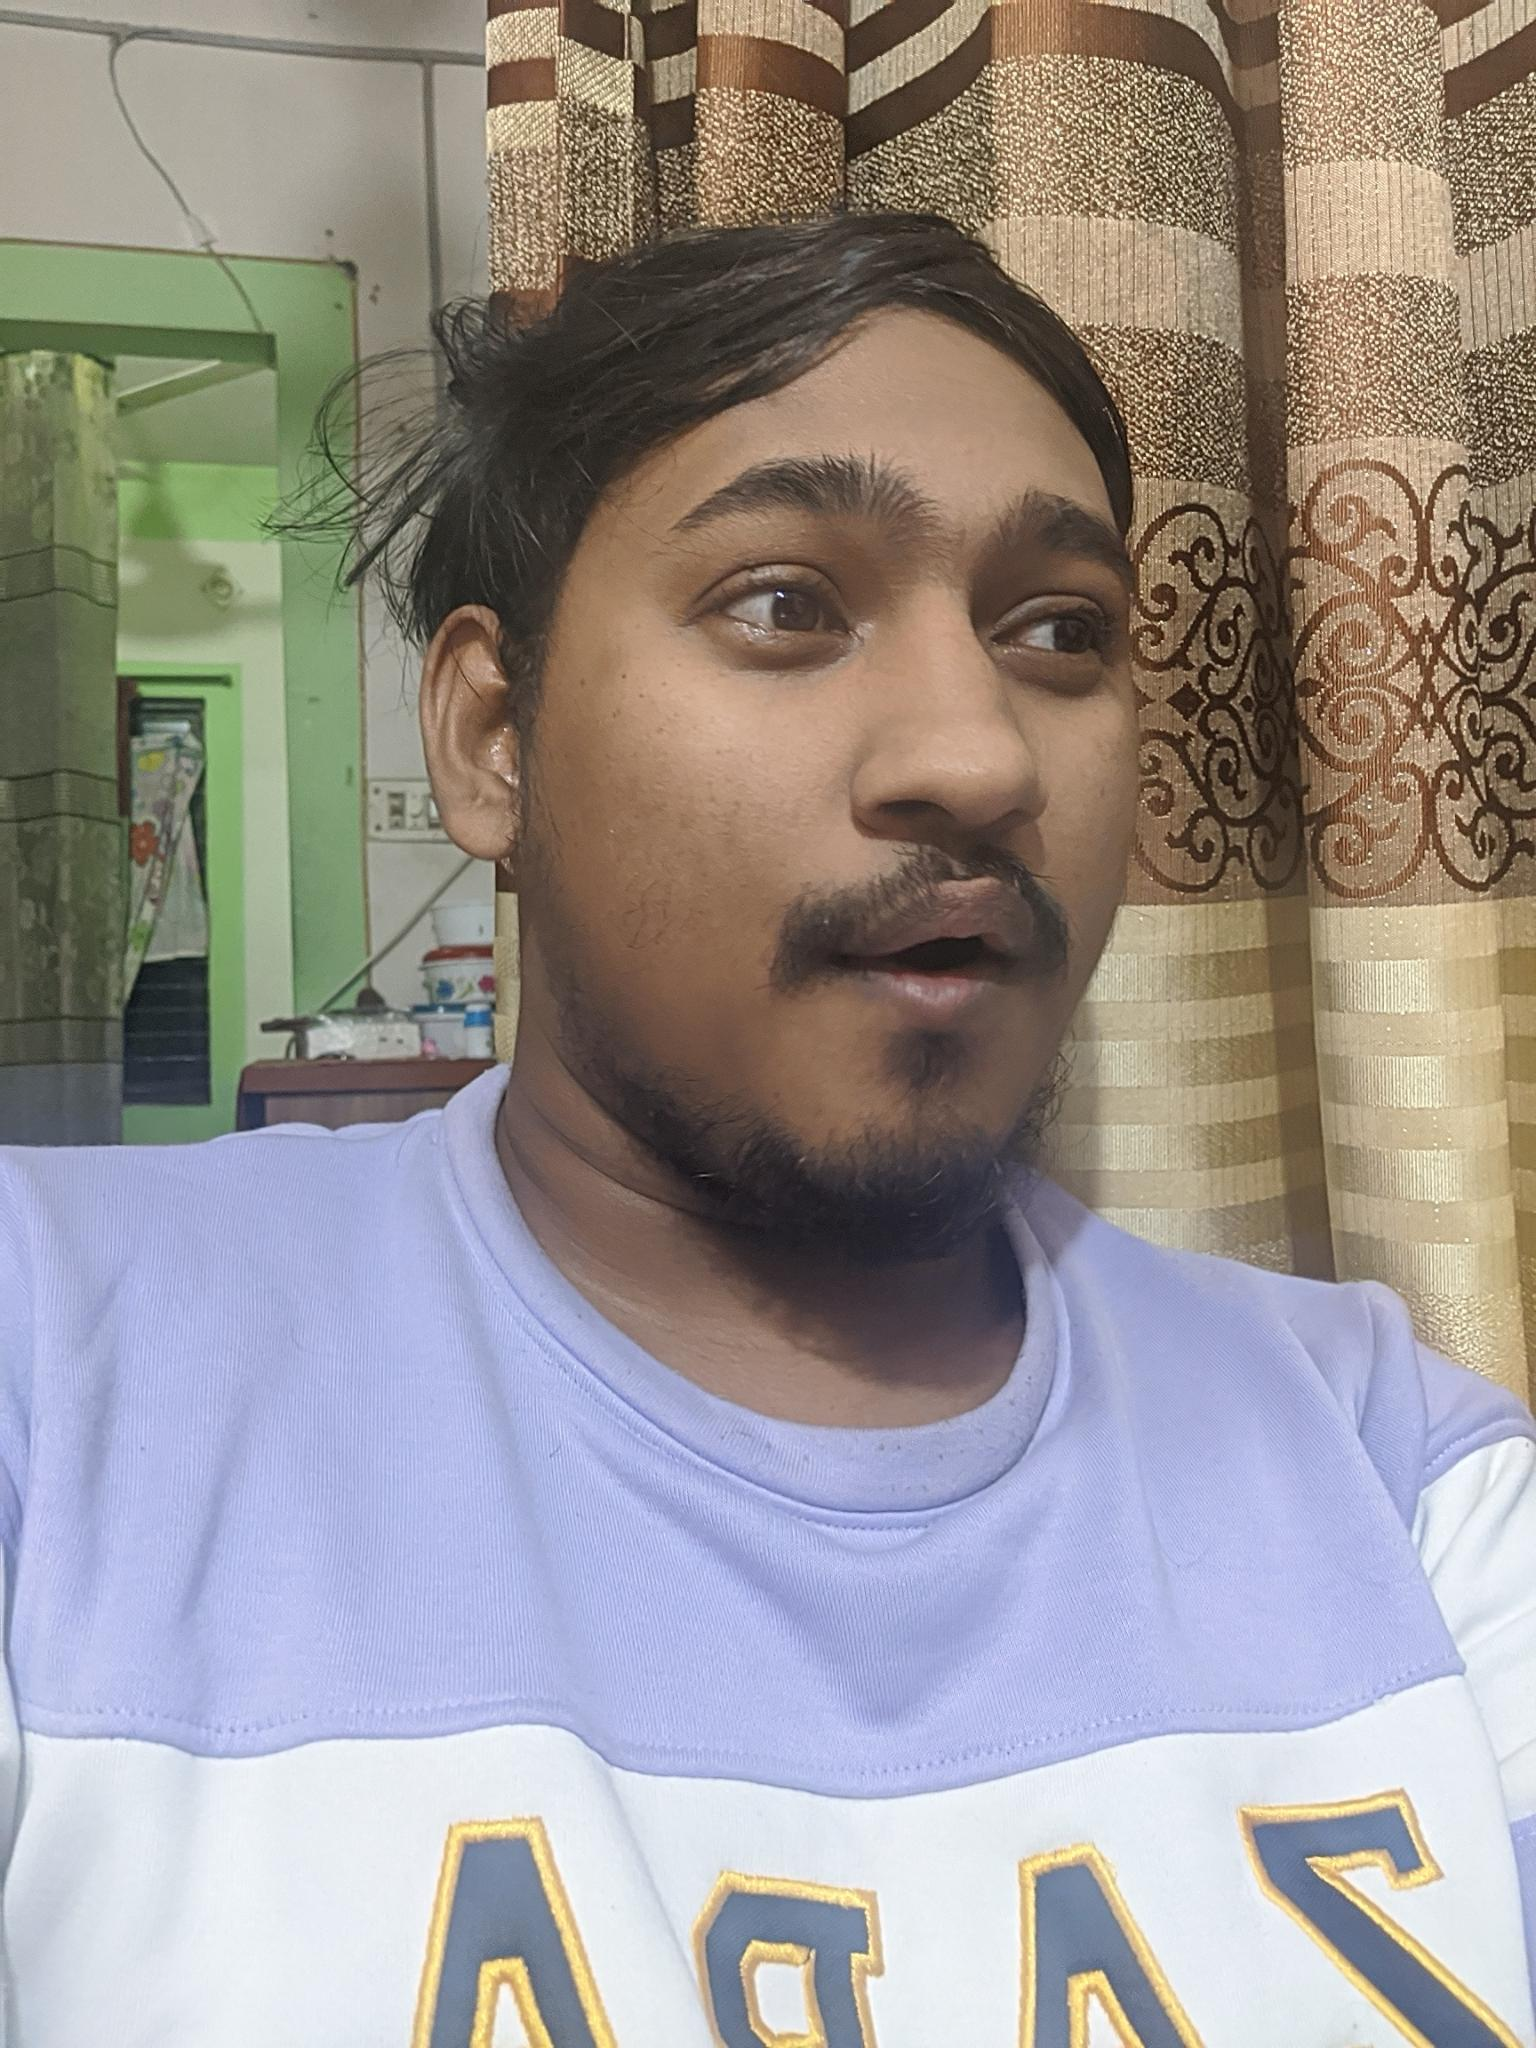Surprise: (610, 397, 1176, 1172)
